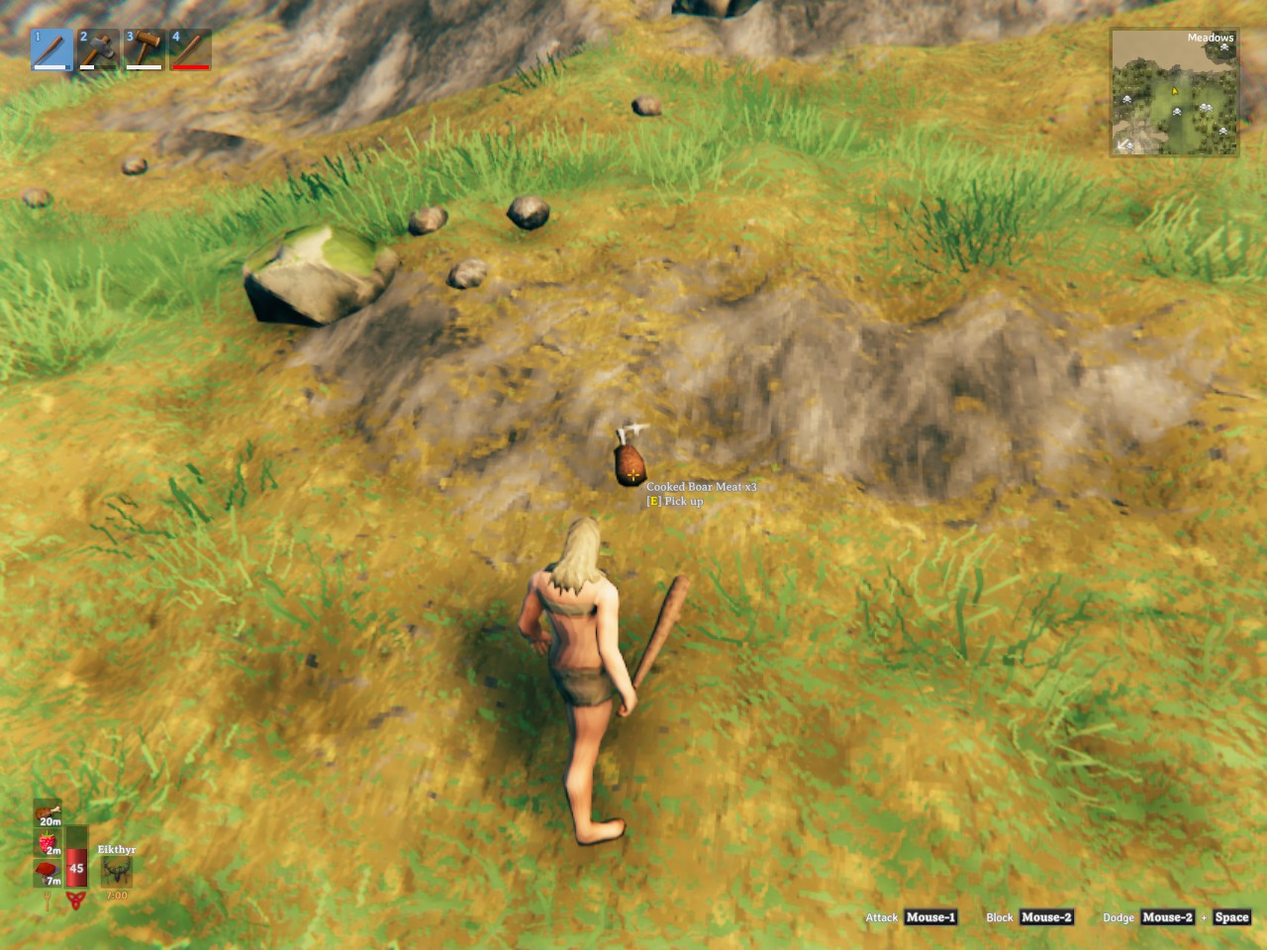Club: (633, 575, 689, 690)
Cooked Boar Meat: (615, 430, 646, 486)
Food Indicator: (36, 798, 63, 891)
Health Bar: (63, 824, 90, 891)
Hotbar: (25, 21, 398, 78)
